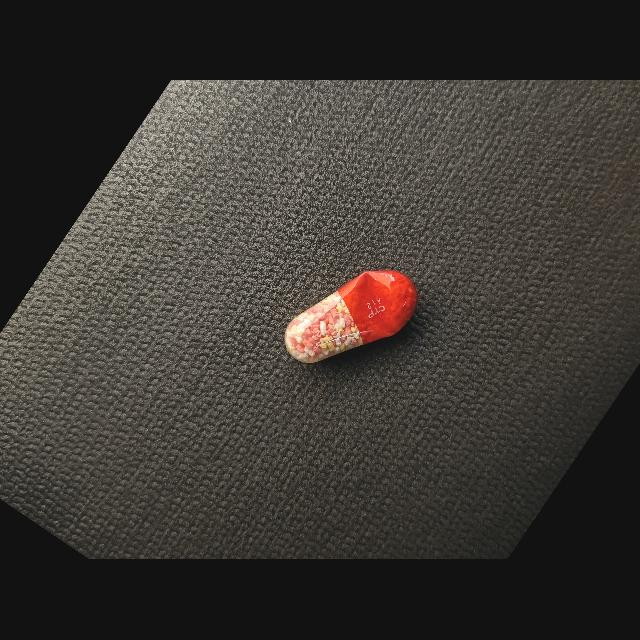Defective Capsule: (284, 271, 417, 363)
